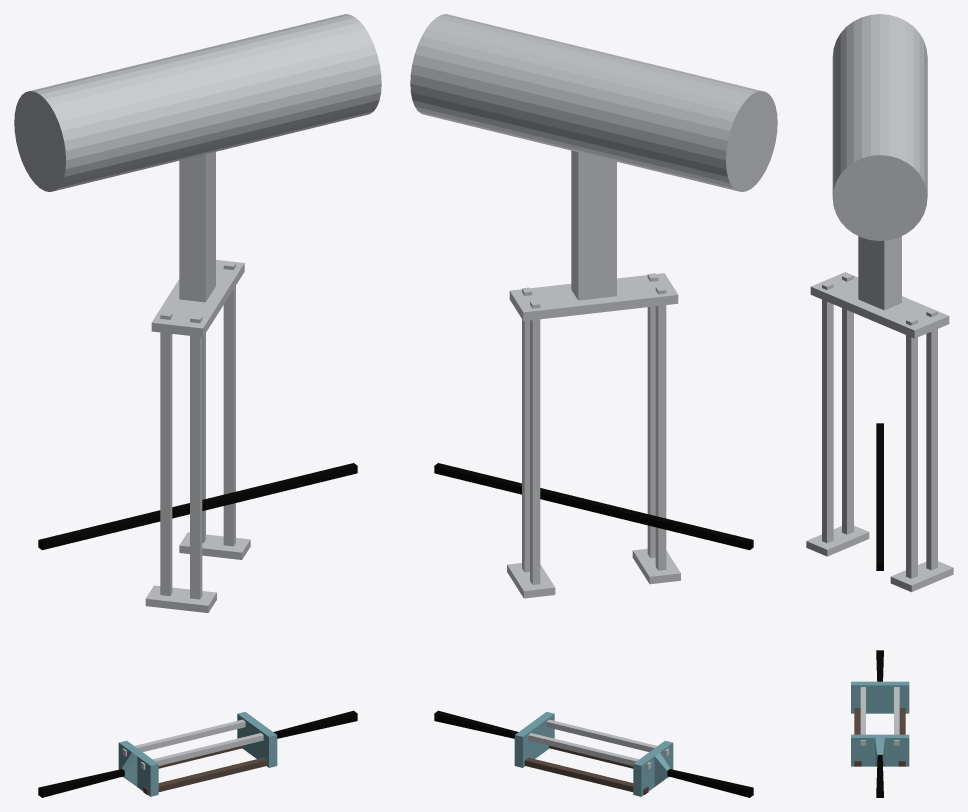
The model's file is moretop_expand-rigid-l.obj.
The picture shows the model from 3 angles, left to right: view 1: azimuth 30°, elevation 25°; view 2: azimuth 150°, elevation 25°; view 3: azimuth 270°, elevation 25°; orthographic projection. The views are drawn at different scales.
Parts seen in each view (by area): view 1: moretop_1.001, moretop_1.007, moretop_1.003, moretop_1.005; view 2: moretop_1.001, moretop_1.007, moretop_1.003, moretop_1.004; view 3: moretop_1.001, moretop_1.007, moretop_1.003.
Part boxes in pixels (bbox=[...]): moretop_1.001: bbox=[14, 14, 381, 797]; moretop_1.007: bbox=[145, 152, 250, 612]; moretop_1.003: bbox=[122, 719, 263, 769]; moretop_1.005: bbox=[143, 757, 267, 794]; moretop_1.001: bbox=[410, 14, 777, 797]; moretop_1.007: bbox=[507, 150, 680, 598]; moretop_1.003: bbox=[528, 719, 669, 769]; moretop_1.004: bbox=[524, 757, 648, 794]; moretop_1.001: bbox=[832, 14, 927, 797]; moretop_1.007: bbox=[806, 236, 953, 592]; moretop_1.003: bbox=[860, 687, 899, 745].
Size of the model in its own units: 1.4 by 3.03 by 0.6187.
Materials: 4 (4 with a texture image).
